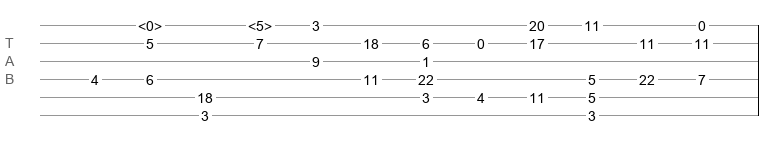0: (477, 36, 485, 46), (698, 18, 706, 28)
1: (422, 54, 430, 64)
11: (363, 72, 379, 82), (529, 90, 545, 100), (584, 18, 600, 28), (639, 36, 655, 46), (694, 36, 710, 46)
17: (529, 36, 545, 46)
18: (197, 90, 213, 100), (363, 36, 379, 46)
20: (529, 18, 545, 28)
22: (418, 72, 434, 82), (639, 72, 655, 82)
3: (201, 108, 209, 118), (312, 18, 320, 28), (422, 90, 430, 100), (588, 108, 596, 118)
4: (91, 72, 99, 82), (477, 90, 485, 100)
5: (146, 36, 154, 46), (588, 90, 596, 100), (588, 72, 596, 82)
6: (146, 72, 154, 82), (422, 36, 430, 46)
7: (256, 36, 264, 46), (698, 72, 706, 82)
9: (312, 54, 320, 64)
harmonic: (138, 18, 162, 28), (248, 18, 272, 28)
